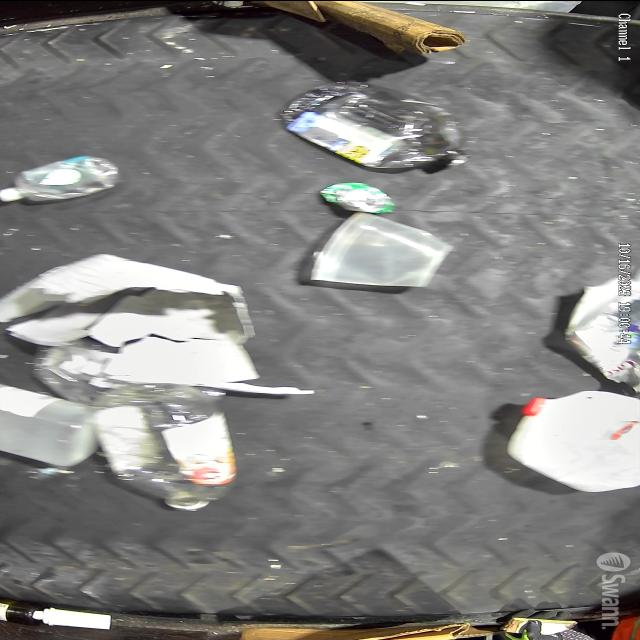can: (318, 181, 396, 214)
milk_jug: (510, 390, 640, 491), (0, 382, 98, 466)
plastic_bottle: (93, 384, 234, 510), (280, 80, 472, 168), (0, 154, 123, 202)
